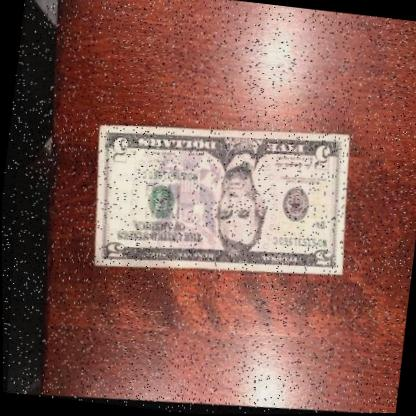five-front: (80, 108, 356, 298)
